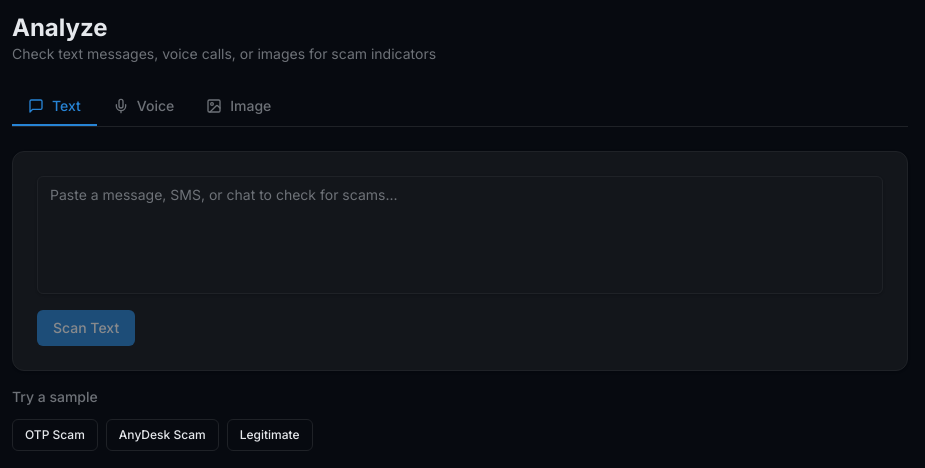
Test: Analyze Page › switches to voice tab
Click the button "Voice" at (144, 107), box left=97, top=88, right=190, bottom=126
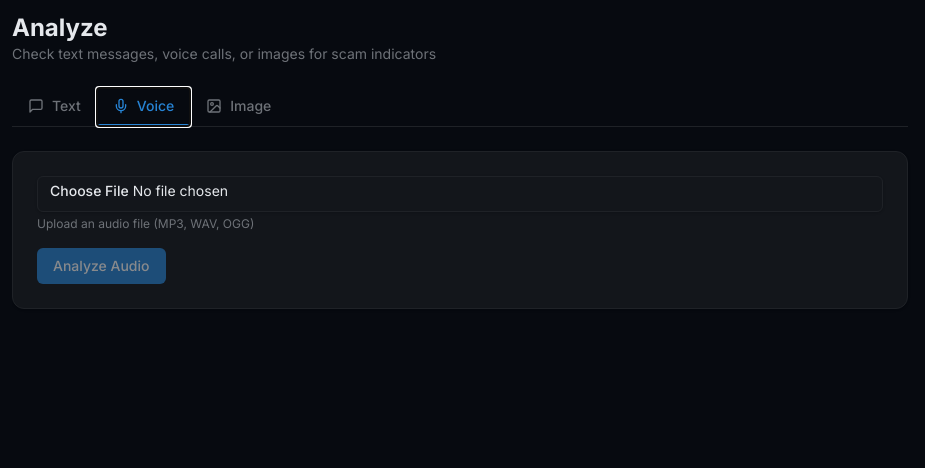
Check: the button "Analyze Audio" is shown, box left=37, top=248, right=166, bottom=284
Check: the text "Upload an audio file (MP3, WAV, OGG)" is shown, box left=37, top=216, right=254, bottom=231
